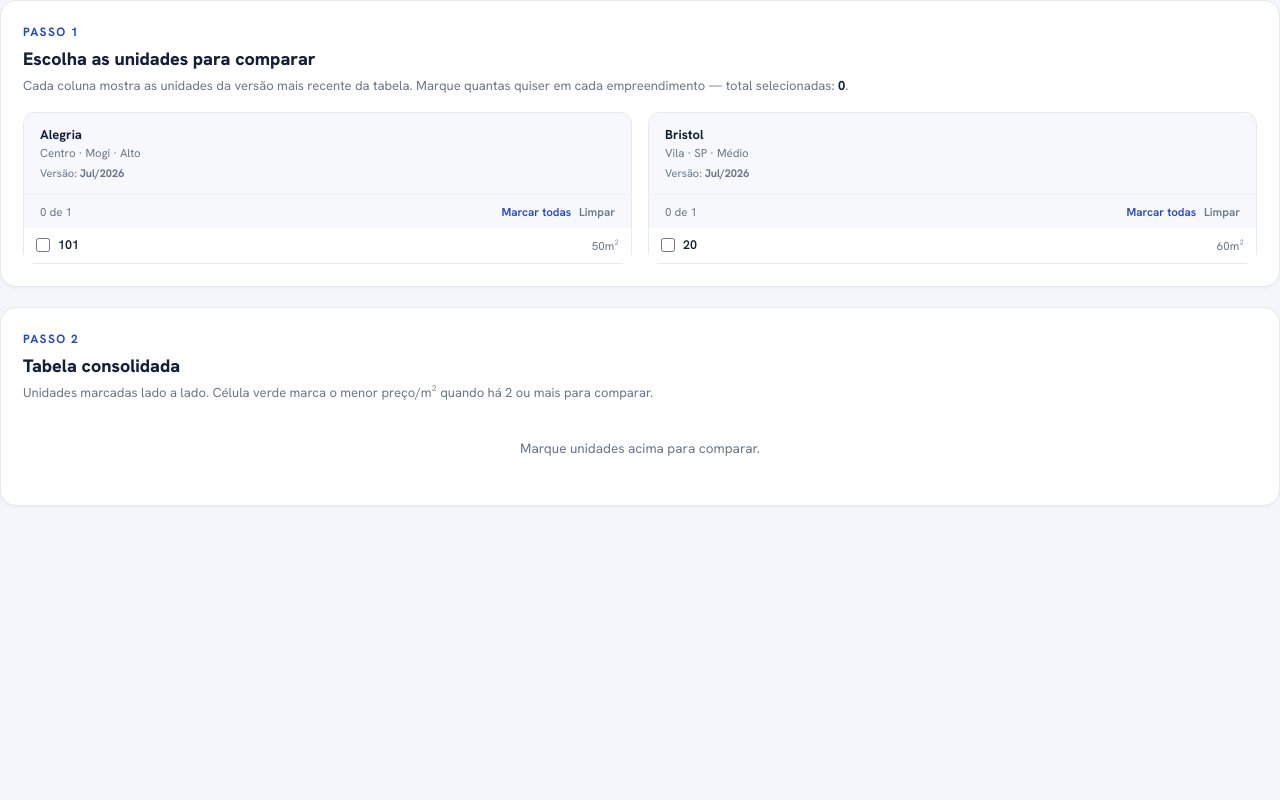
it: <ComparativoUnidades /> › marca líder pelo menor preço/m² quando 2+ selecionadas
The width and height of the screenshot is (1280, 800).
Click the text "101" at (68, 244), box [58,236,79,253]
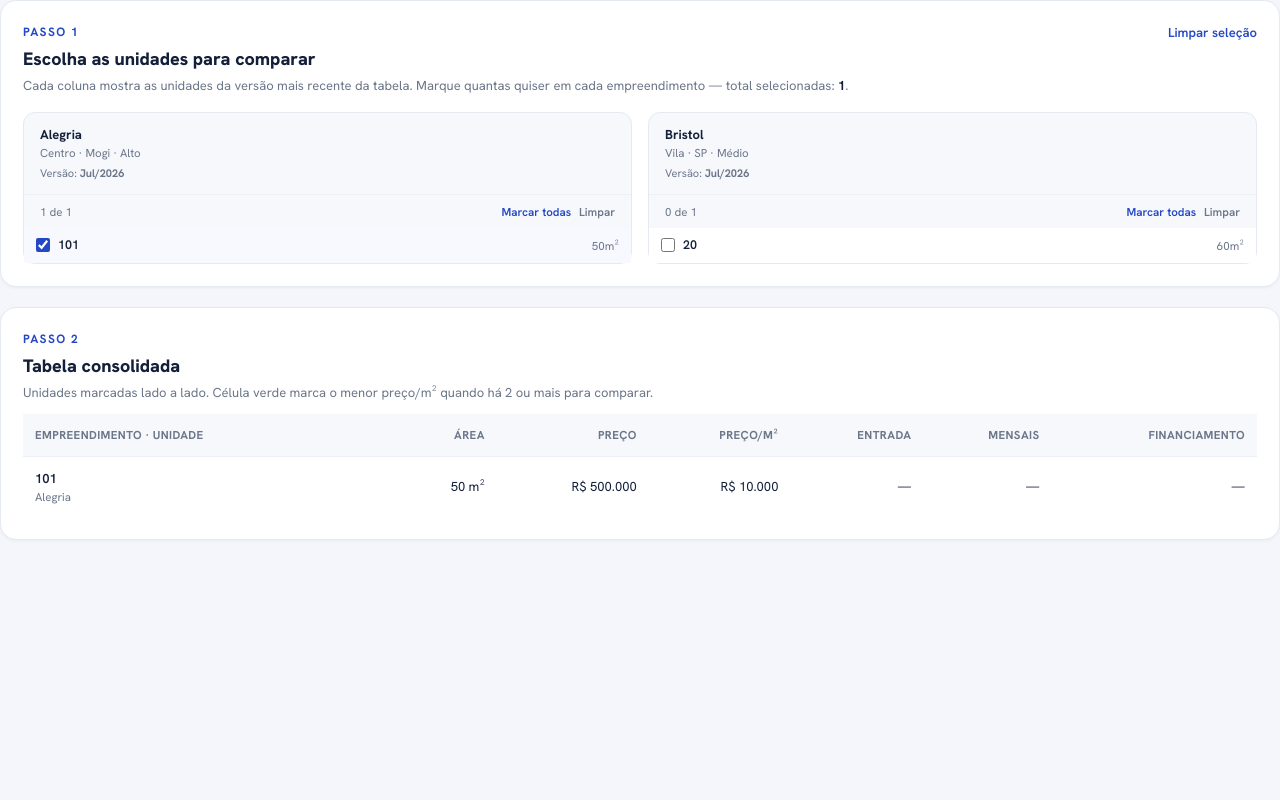
Click the text "20" at (690, 244), box [683,236,697,253]
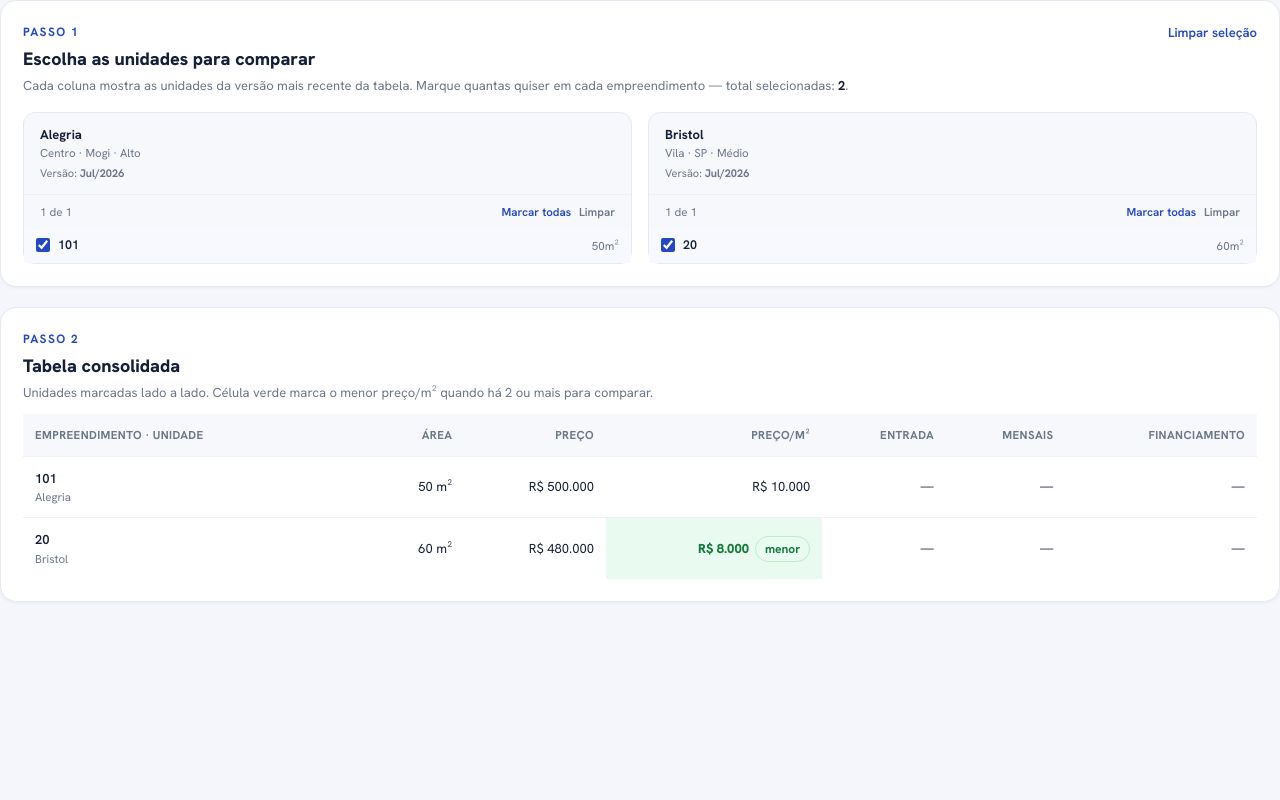
expect the text "R$ 10.000" is shown: met, box [752,477,810,497]
expect the text "R$ 8.000" is shown: met, box [698,540,749,557]
